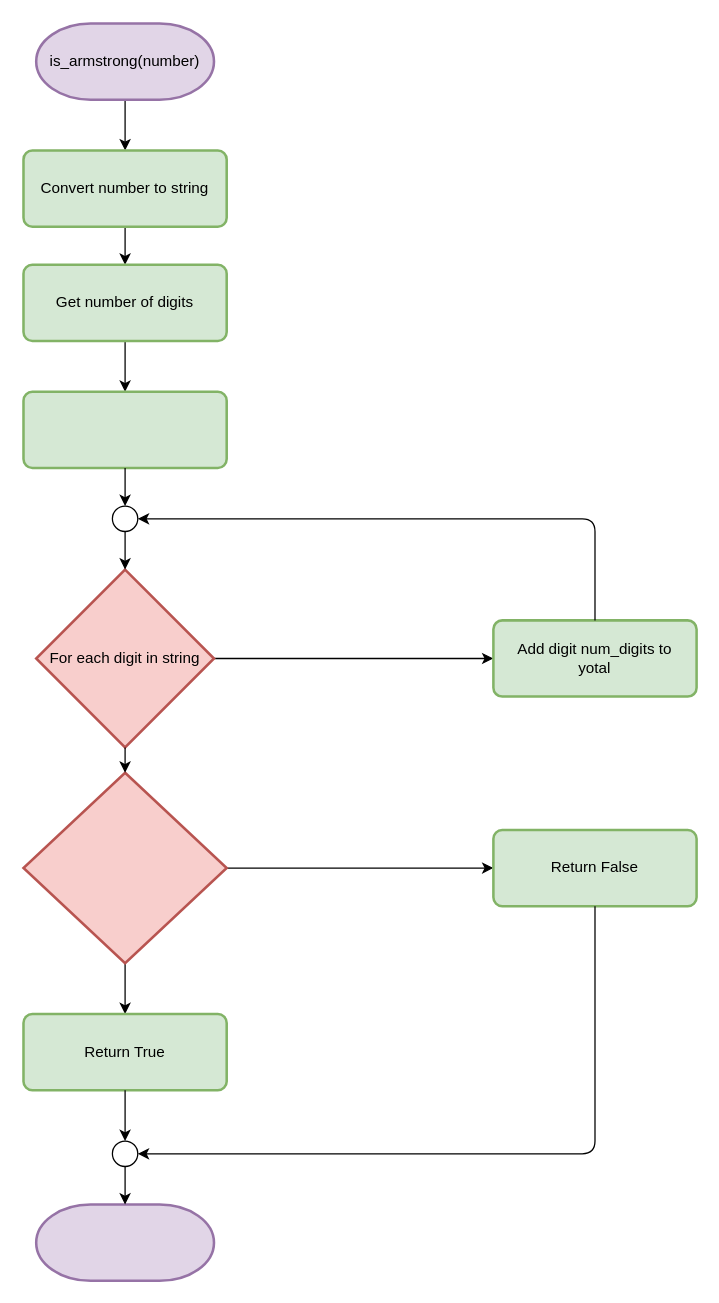
This 719x1303 diagram has some shape labels left out. Here are the shapes that lost their labels. From the top down, the centre of each, then its label:
point (124, 429): Initialize total to 0
point (124, 867): Is total equal to number?
point (124, 1242): Stop
